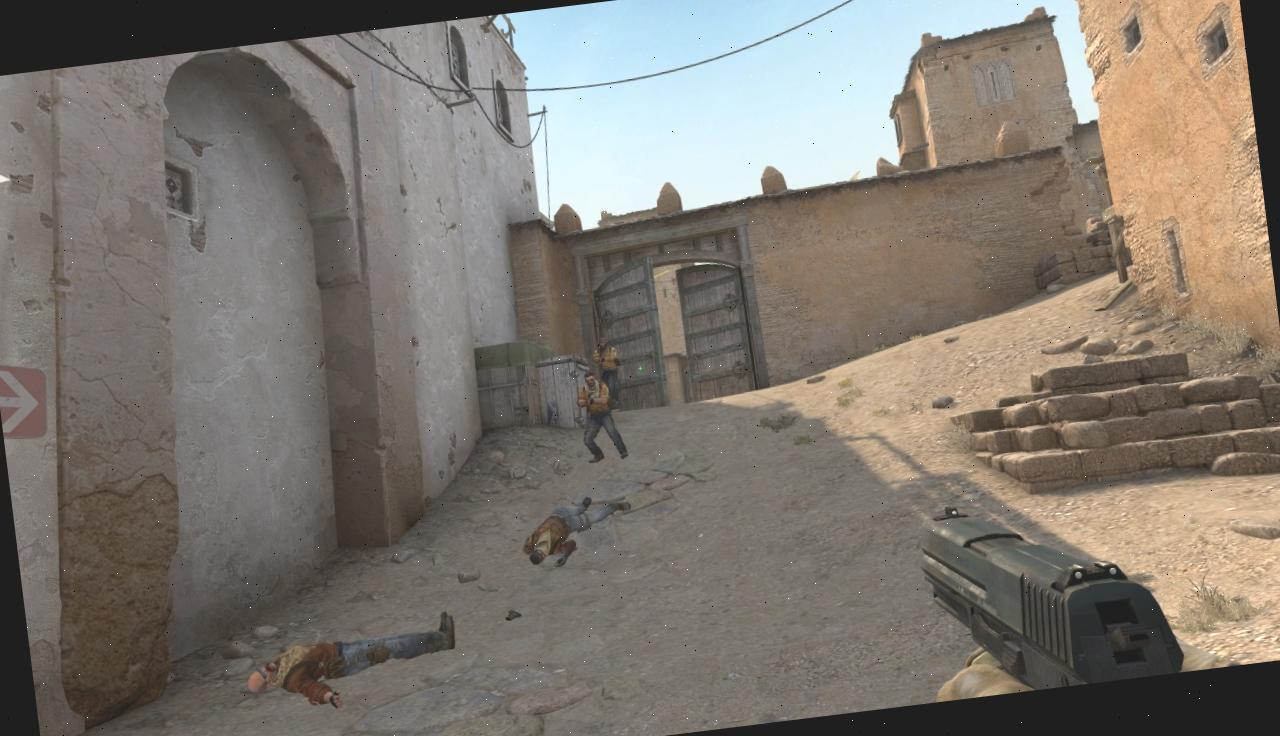pistol: (912, 472, 1250, 702)
tt: (574, 369, 630, 463), (590, 337, 624, 413)
tthead: (584, 373, 596, 387), (598, 338, 608, 350)
